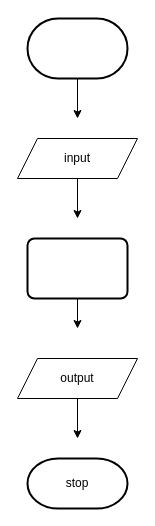
This 155x526 diagram has some shape labels left out. Here are the shapes that lost their labels. From the top down, the box of each, then its label:
(26, 17, 128, 79): start
(26, 237, 128, 299): processing
